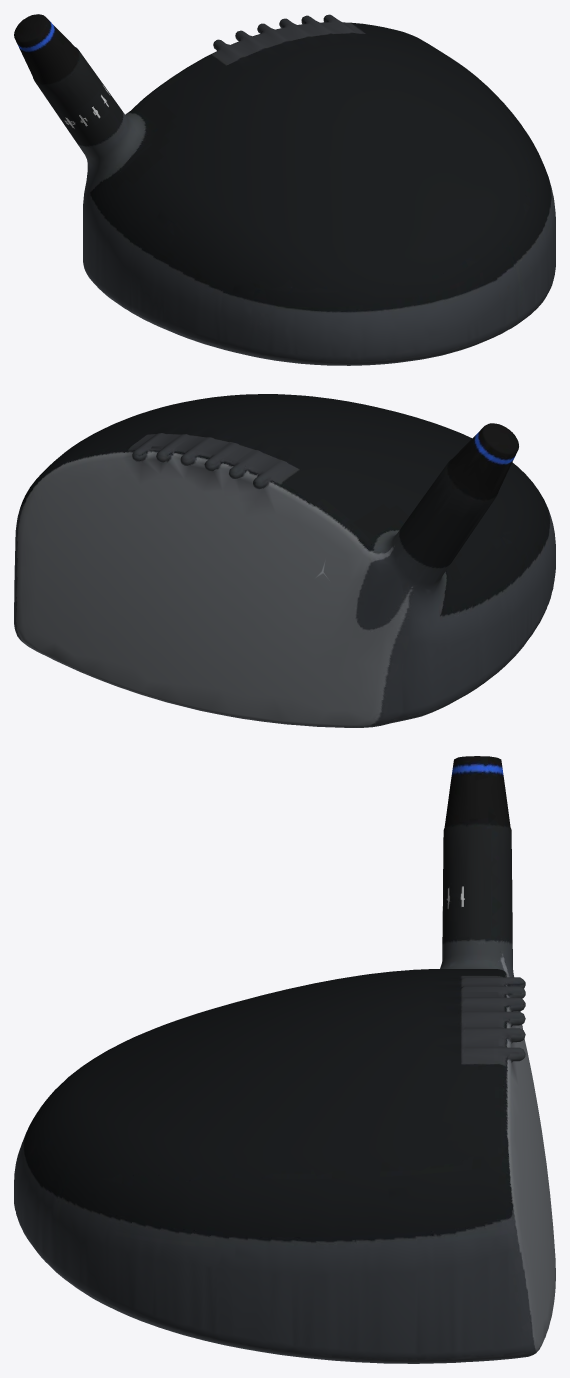
3 views of the same model, one above another, from view 1: azimuth 30°, elevation 25°; view 2: azimuth 150°, elevation 25°; view 3: azimuth 270°, elevation 25° (orthographic). The views are drawn at different scales.
Parts seen in each view (by area): view 1: head; view 2: head; view 3: head.
Part boxes in pixels (box(x1,y1,x2,y2)): head: box(14, 14, 555, 365); head: box(14, 394, 555, 727); head: box(14, 756, 555, 1363).
Bounding box in the file's own units: 0.1345 × 0.0835 × 0.1099.
1 material, 1 textured.
